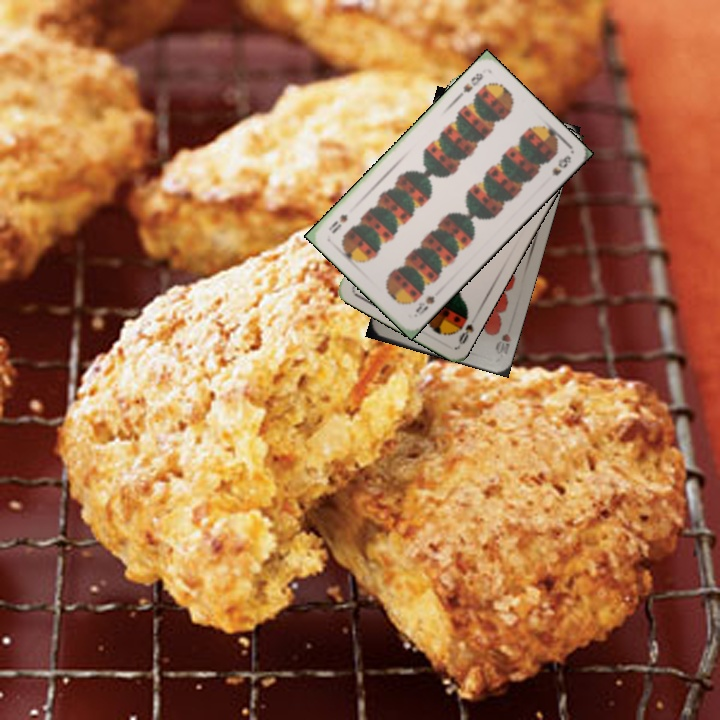H10: (491, 330, 514, 357)
S8: (459, 69, 486, 95), (411, 292, 437, 318)
SO: (454, 319, 476, 347)
